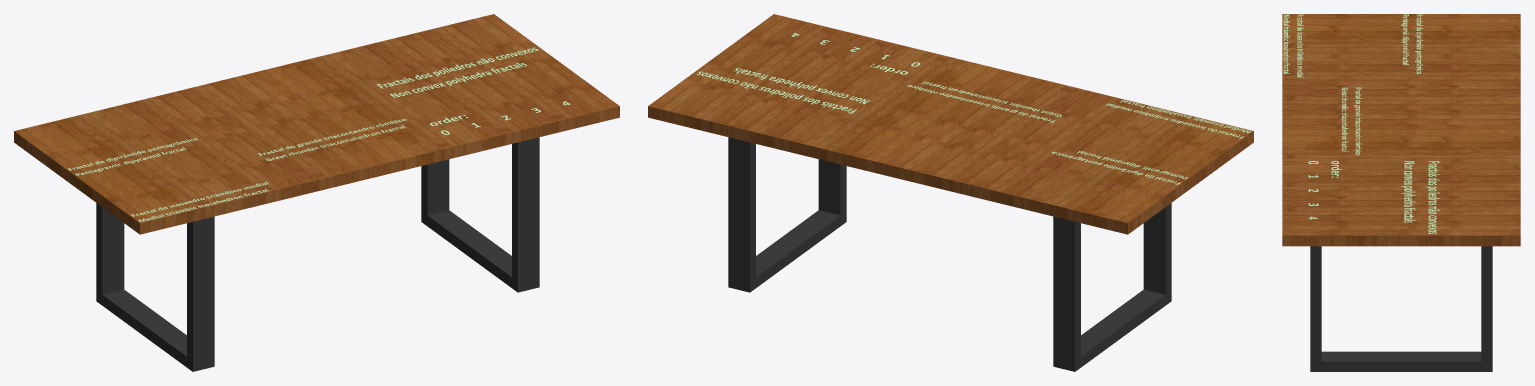
The model's file is fractal_nonconvex3.glb.
3 views of the same model, side by side, from view 1: azimuth 30°, elevation 25°; view 2: azimuth 150°, elevation 25°; view 3: azimuth 270°, elevation 25° (orthographic). The views are drawn at different scales.
Visible parts, largest first — view 1: object 1, Composant#1 (×2), Fractais dos pol#1, Fractal do grand#4, Fractal do icosa, Fractal da dipir; view 2: object 1, Composant#1 (×2), Fractais dos pol#1, Fractal do grand#4, Fractal do icosa, Fractal da dipir; view 3: object 1, Composant#1, Fractais dos pol#1, Fractal do grand#4, Fractal do icosa, Fractal da dipir, order: 0 1.
Part boxes in pixels (bbox=[...]): object 1: bbox=[14, 14, 619, 234]; Composant#1 (×2): bbox=[96, 137, 539, 371]; Fractais dos pol#1: bbox=[377, 47, 538, 97]; Fractal do grand#4: bbox=[258, 119, 405, 160]; Fractal do icosa: bbox=[131, 181, 268, 222]; Fractal da dipir: bbox=[68, 138, 197, 175]; object 1: bbox=[648, 14, 1253, 234]; Composant#1 (×2): bbox=[728, 137, 1171, 371]; Fractais dos pol#1: bbox=[696, 68, 869, 113]; Fractal do grand#4: bbox=[907, 81, 1061, 122]; Fractal do icosa: bbox=[1106, 100, 1250, 138]; Fractal da dipir: bbox=[1052, 151, 1187, 184]; object 1: bbox=[1282, 14, 1520, 246]; Composant#1: bbox=[1310, 246, 1492, 371]; Fractais dos pol#1: bbox=[1401, 161, 1439, 233]; Fractal do grand#4: bbox=[1341, 87, 1361, 155]; Fractal do icosa: bbox=[1283, 14, 1303, 77]; Fractal da dipir: bbox=[1401, 14, 1422, 73]; order: 0 1: bbox=[1308, 161, 1342, 219].
Size of the model in its own units: 2.2 by 0.7711 by 1.
Materials: 3 (1 with a texture image).
